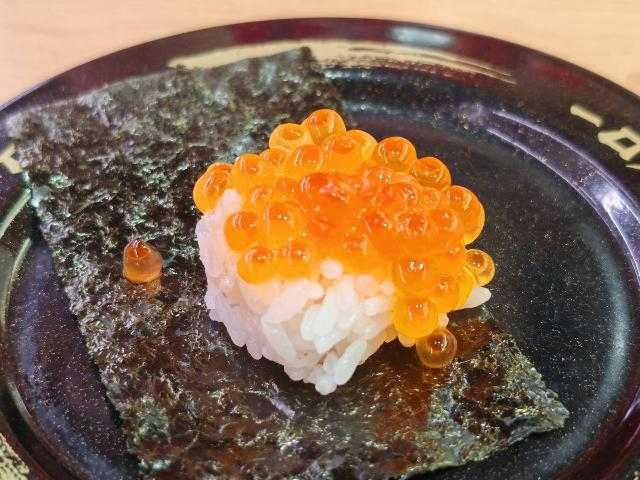janback: (546, 32, 640, 480), (0, 178, 121, 480), (275, 18, 557, 126), (80, 16, 290, 73)
